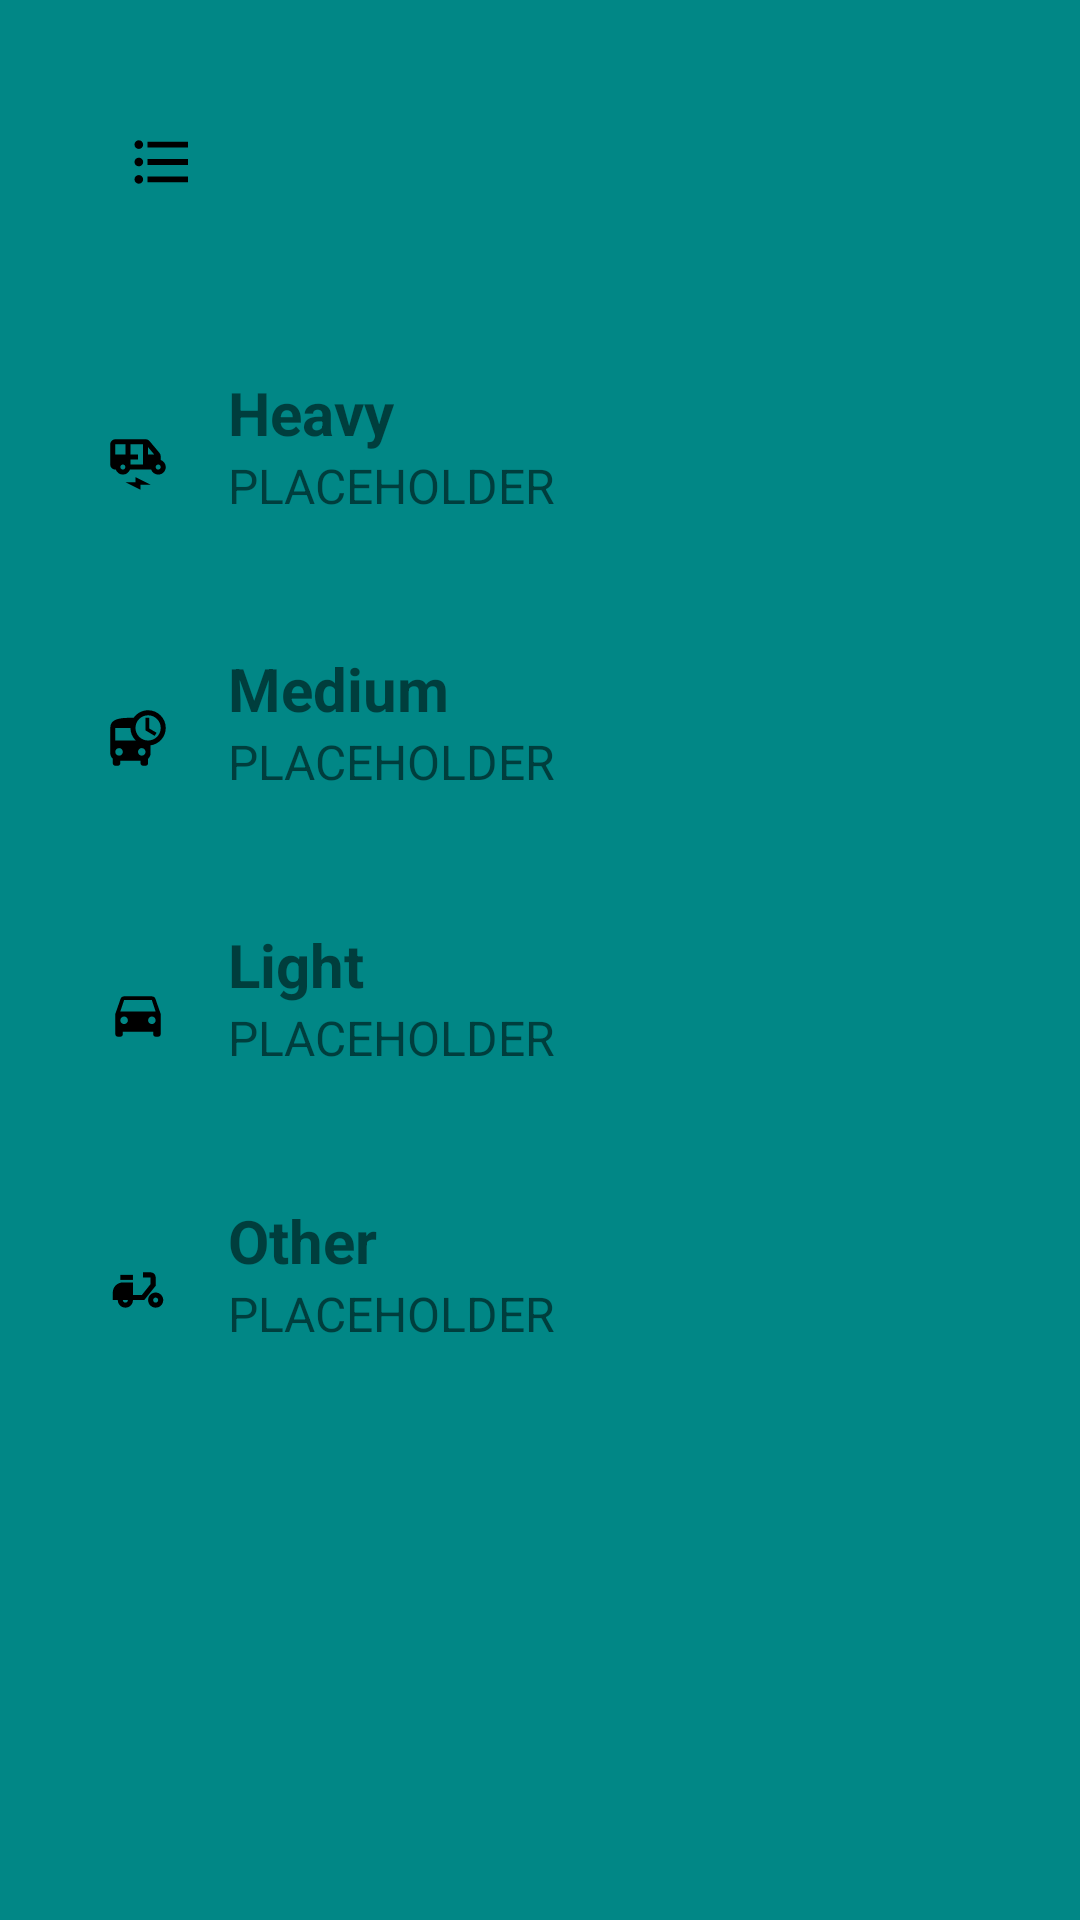

Locate icon controls on the screen. Image size 1080 × 1920, boxes as (x1, y1, x2, y2).
navmenu: (134, 140, 188, 184)
